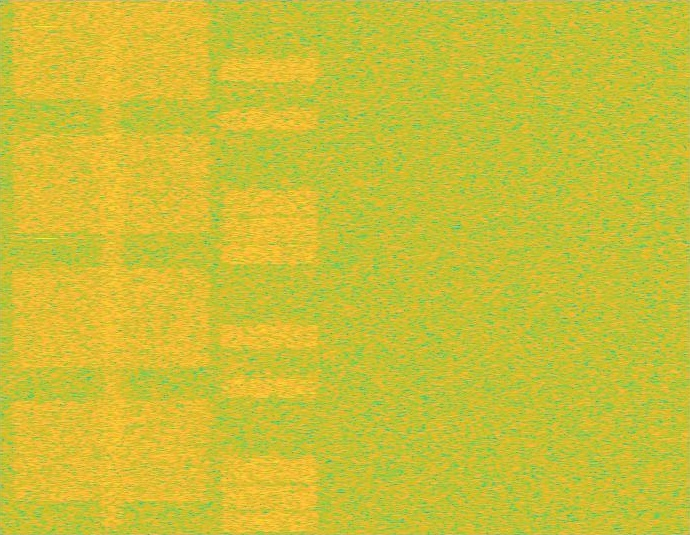5G: (8, 0, 215, 534)
DSSS: (98, 0, 126, 534)
LTE: (218, 0, 321, 534)
Radar: (39, 0, 53, 534)
